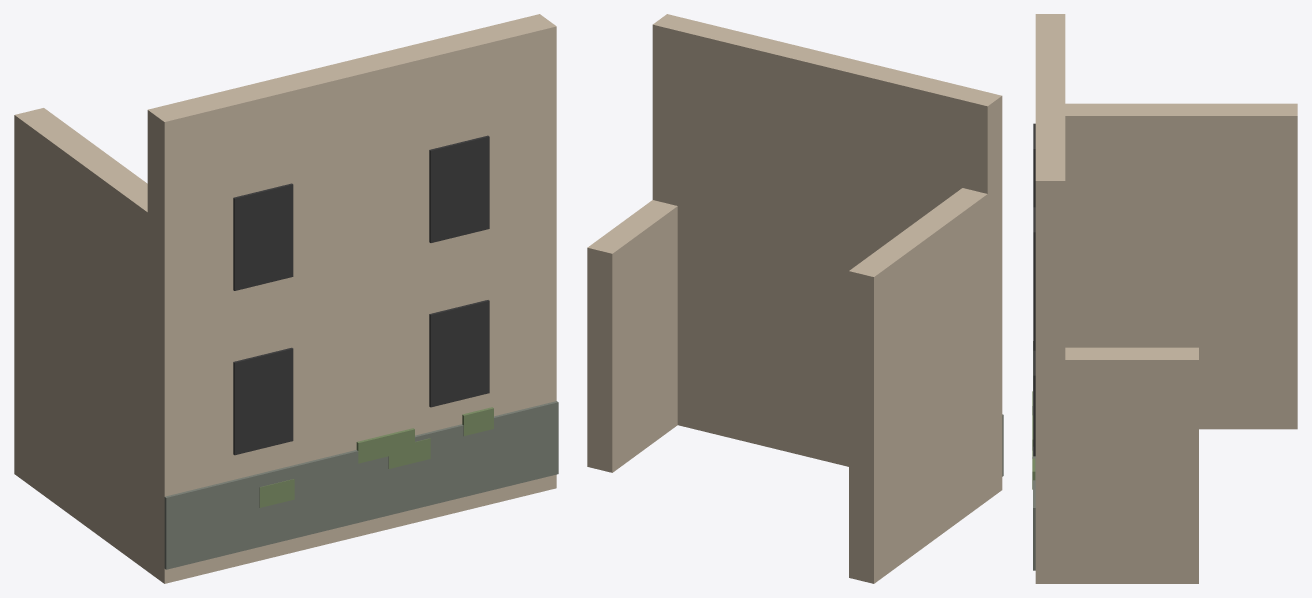
Rendered from SubmergedFacade.glb.
3 views of the same model, side by side, from view 1: azimuth 30°, elevation 25°; view 2: azimuth 150°, elevation 25°; view 3: azimuth 270°, elevation 25° (orthographic). The views are drawn at different scales.
Visible parts, largest first — view 1: Facade, Side wall, Water stain.012, Empty window, Empty window.001, Empty window.003, Empty window.002, Moss.001, Moss, Moss.003, Moss.002; view 2: Facade, Side wall, Side wall.001; view 3: Side wall, Side wall.001, Facade, Water stain.012.
Part boxes in pixels (left/top/right/bottom): Facade: left=147, top=14, right=556, bottom=583; Side wall: left=14, top=108, right=155, bottom=577; Water stain.012: left=164, top=401, right=558, bottom=569; Empty window: left=233, top=347, right=293, bottom=455; Empty window.001: left=233, top=183, right=293, bottom=290; Empty window.003: left=429, top=135, right=489, bottom=242; Empty window.002: left=429, top=300, right=489, bottom=407; Moss.001: left=356, top=428, right=414, bottom=463; Moss: left=259, top=479, right=294, bottom=507; Moss.003: left=462, top=407, right=493, bottom=435; Moss.002: left=388, top=438, right=430, bottom=468; Facade: left=652, top=14, right=1002, bottom=500; Side wall: left=849, top=188, right=994, bottom=583; Side wall.001: left=587, top=200, right=677, bottom=472; Side wall: left=1065, top=103, right=1297, bottom=429; Side wall.001: left=1050, top=347, right=1198, bottom=583; Facade: left=1035, top=14, right=1065, bottom=583; Water stain.012: left=1033, top=341, right=1035, bottom=570.
Bounding box in the file's own units: 8 × 9 × 5.37.
